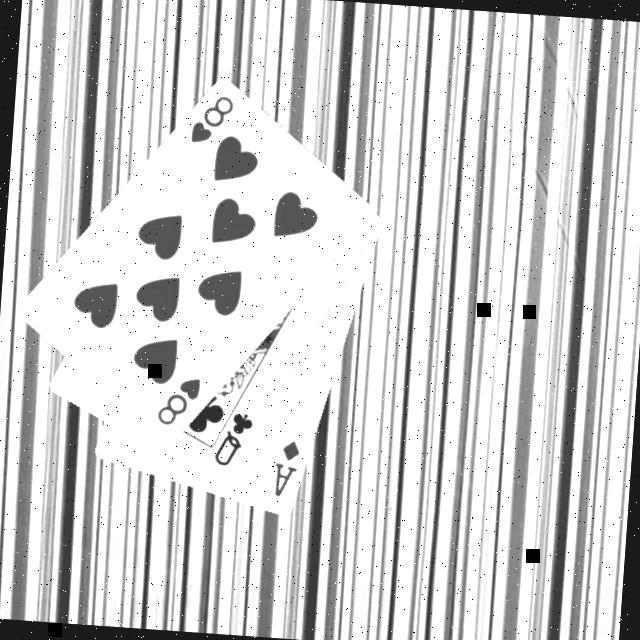8H: (151, 371, 203, 430), (185, 90, 237, 149)
AD: (269, 436, 303, 500)
QC: (209, 406, 255, 470)
